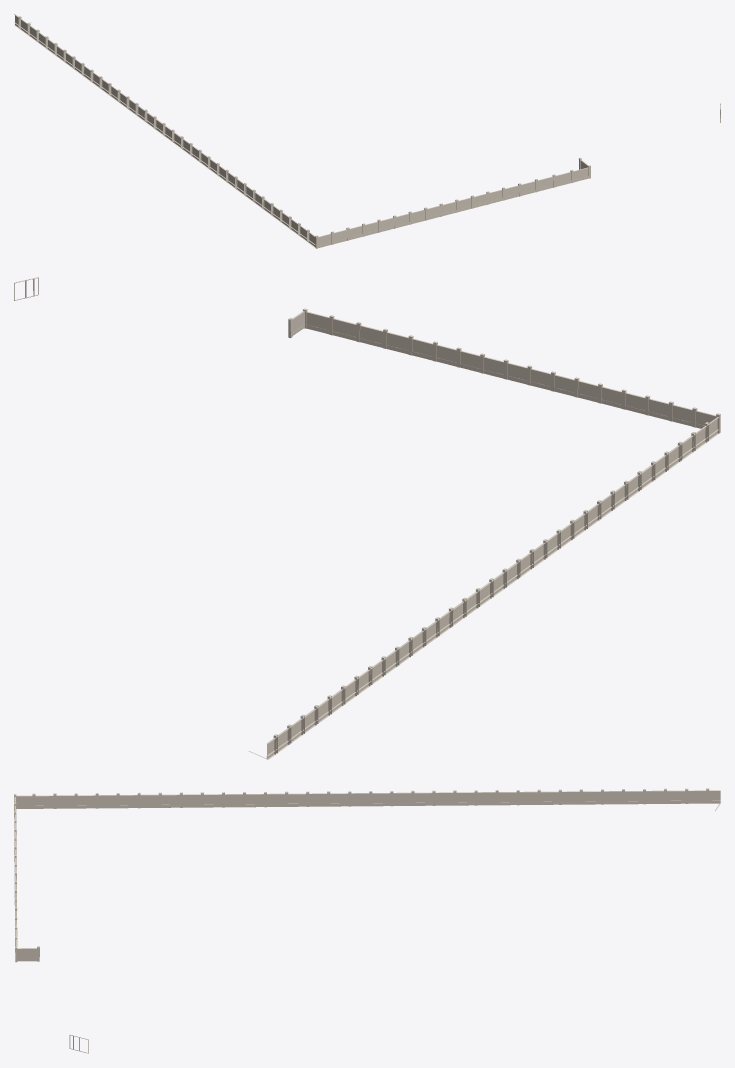
Rendered from Muro_Externo_01.fbx.
3 views of the same model, one above another, from view 1: azimuth 30°, elevation 25°; view 2: azimuth 150°, elevation 25°; view 3: azimuth 270°, elevation 25° (orthographic). The views are drawn at different scales.
Parts seen in each view (by area): view 1: Muro_Externo_01; view 2: Muro_Externo_01; view 3: Muro_Externo_01.
Part boxes in pixels (x1=…): Muro_Externo_01: x1=14, y1=14, x2=720, y2=248; Muro_Externo_01: x1=14, y1=277, x2=720, y2=759; Muro_Externo_01: x1=14, y1=788, x2=720, y2=1053.
Size of the model in its own units: 8187 by 290 by 9748.
